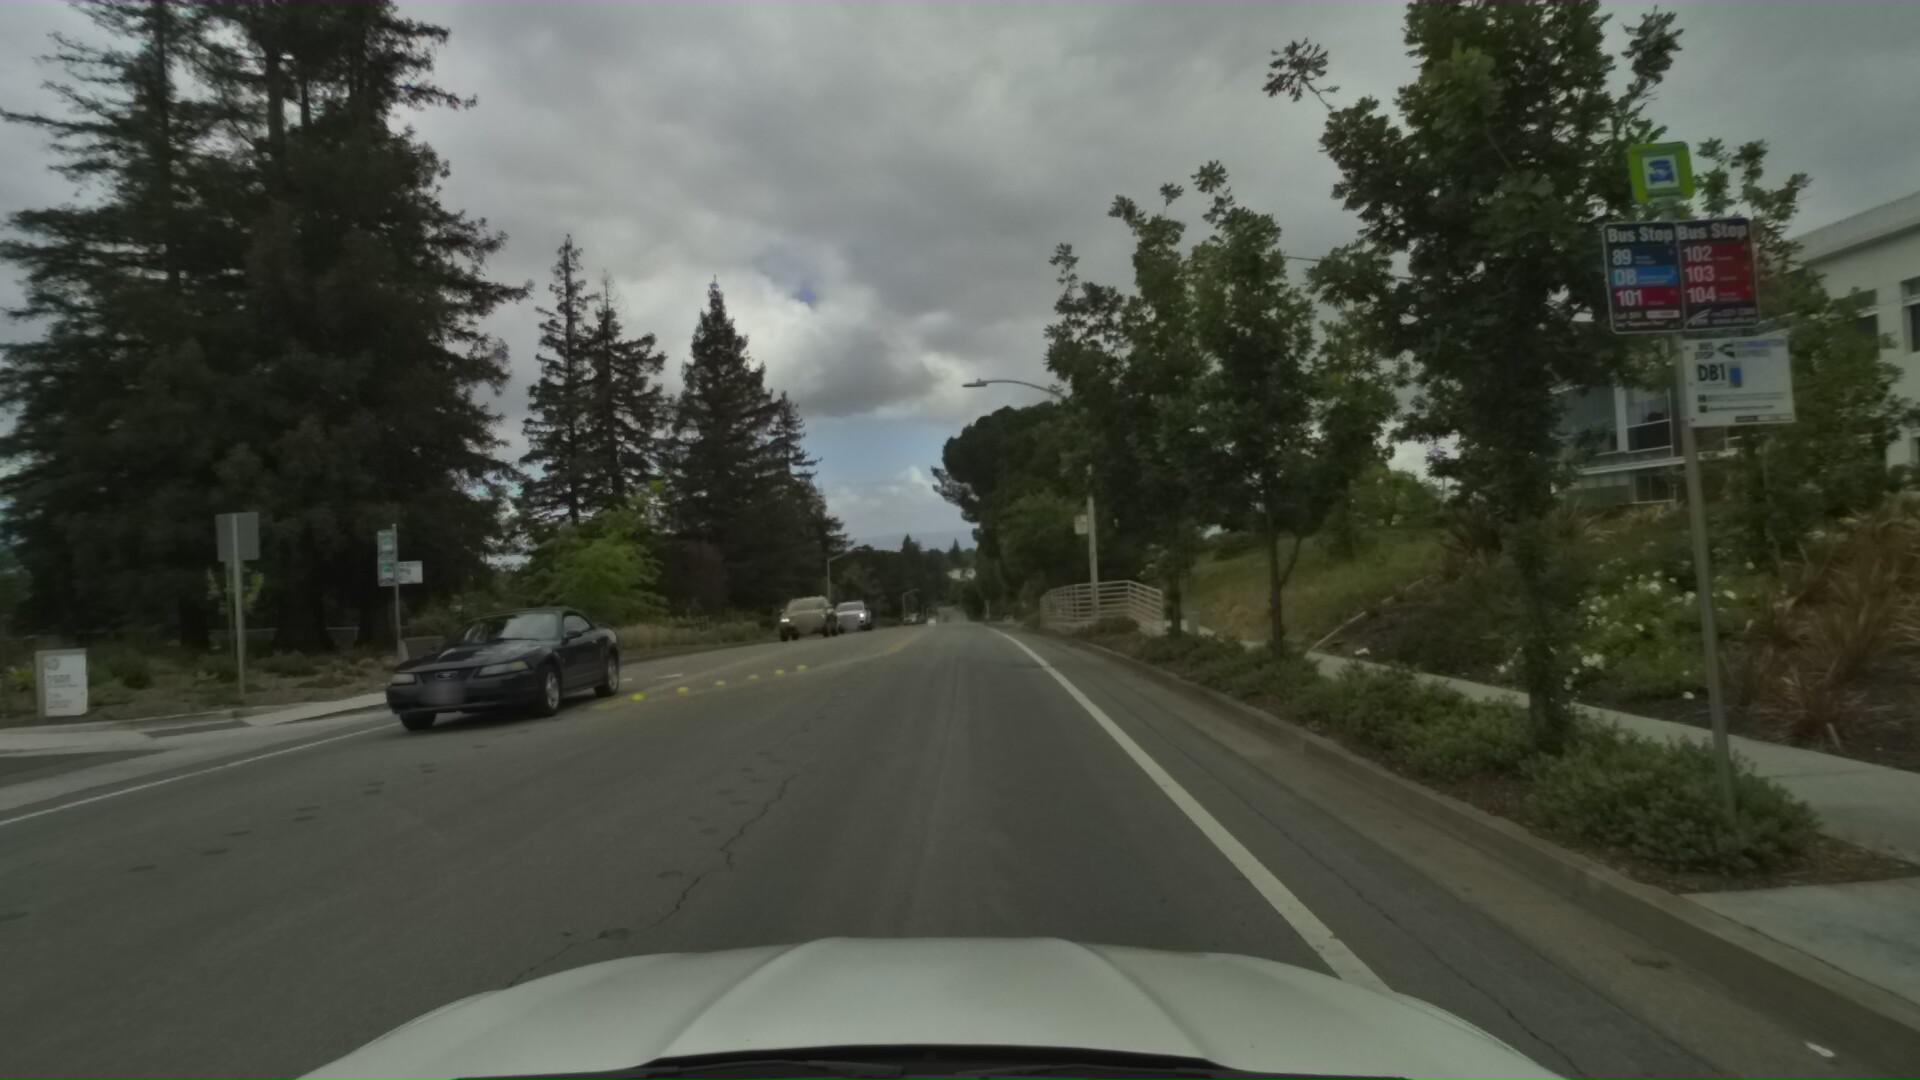car: (336, 593, 626, 757), (771, 583, 835, 637), (828, 589, 872, 629)
